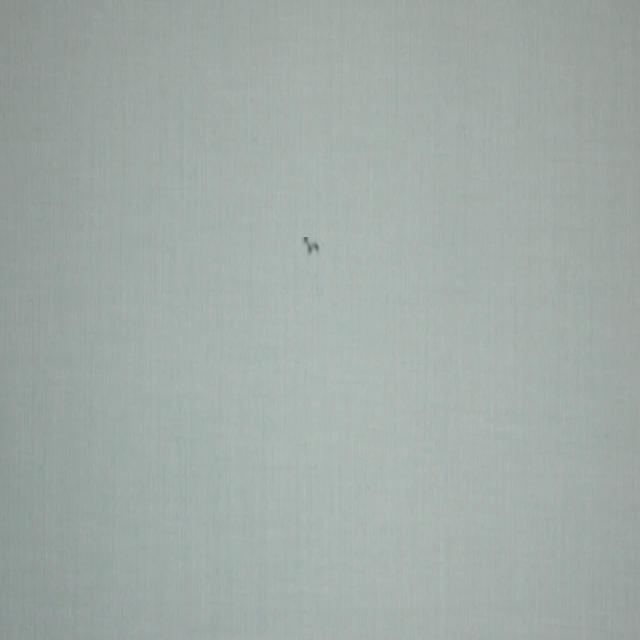dirty: (302, 235, 320, 254)
